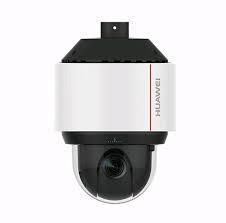maru: (58, 129, 173, 203)
